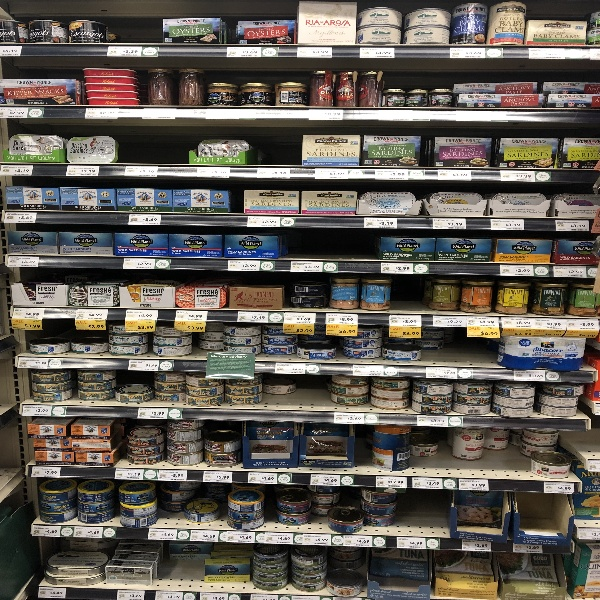void: (119, 119, 196, 170), (282, 228, 381, 264), (512, 489, 575, 542), (430, 326, 500, 368), (250, 122, 303, 172), (104, 1, 163, 42), (399, 490, 444, 536), (388, 271, 434, 314), (295, 372, 329, 408)
